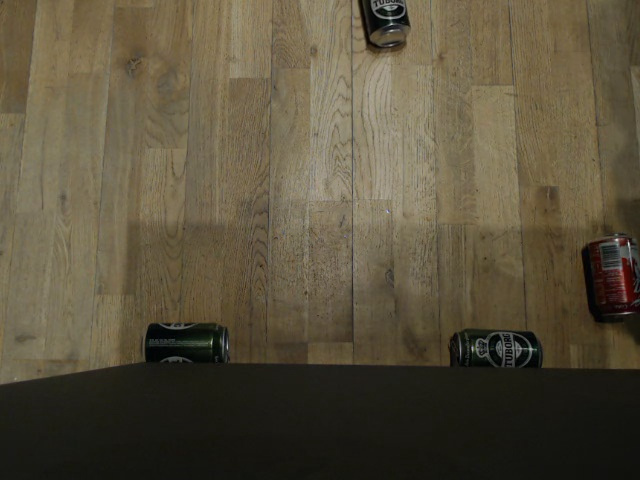beer: (96, 74, 160, 159)
